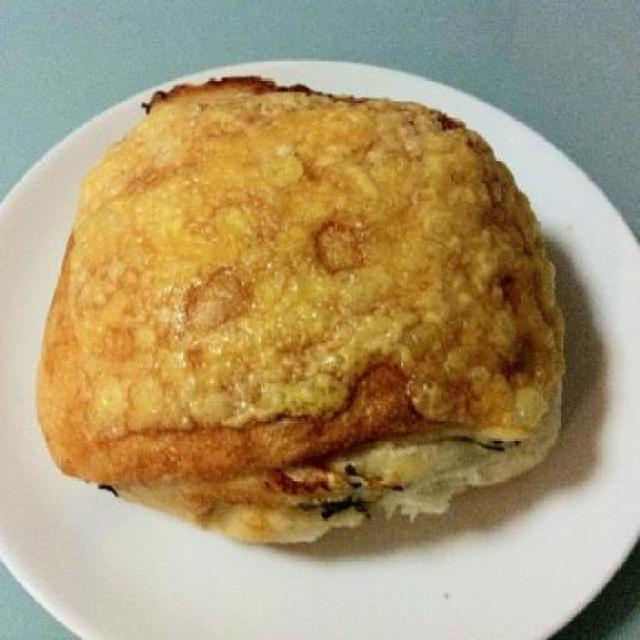Sandwich: (35, 70, 558, 546)
